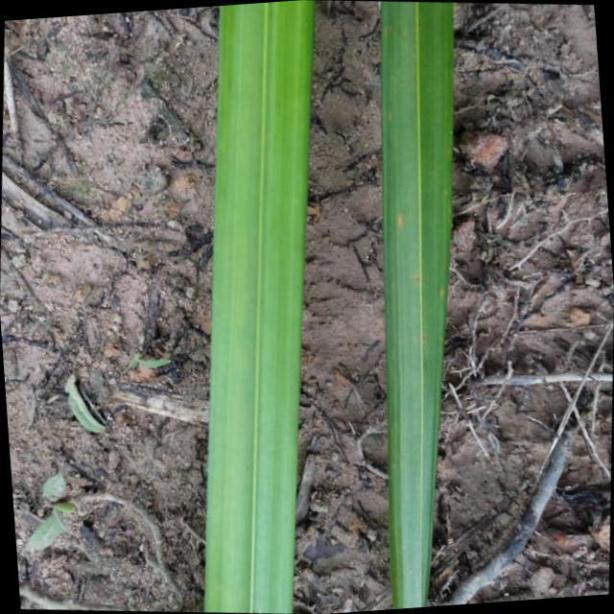nitrogen: (208, 0, 318, 614)
